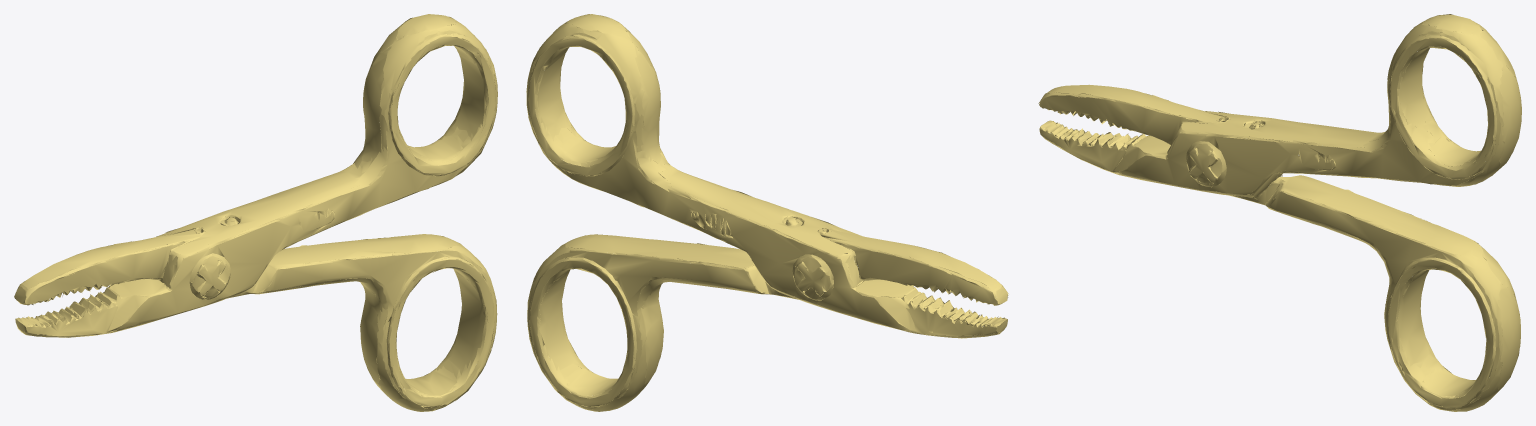
Rendered from equip_ent_tilley_nasal_dress.glb.
3 renders of one model, left to right at view 1: azimuth 30°, elevation 25°; view 2: azimuth 150°, elevation 25°; view 3: azimuth 330°, elevation 25°, orthographic.
Visible parts, largest first — view 1: world; view 2: world; view 3: world.
Part boxes in pixels (x1,y1,x2,y2): world: (14,14,497,411); world: (526,14,1008,411); world: (1038,14,1521,411).
Bounding box in the file's own units: 0.18 × 0.1404 × 0.023.
